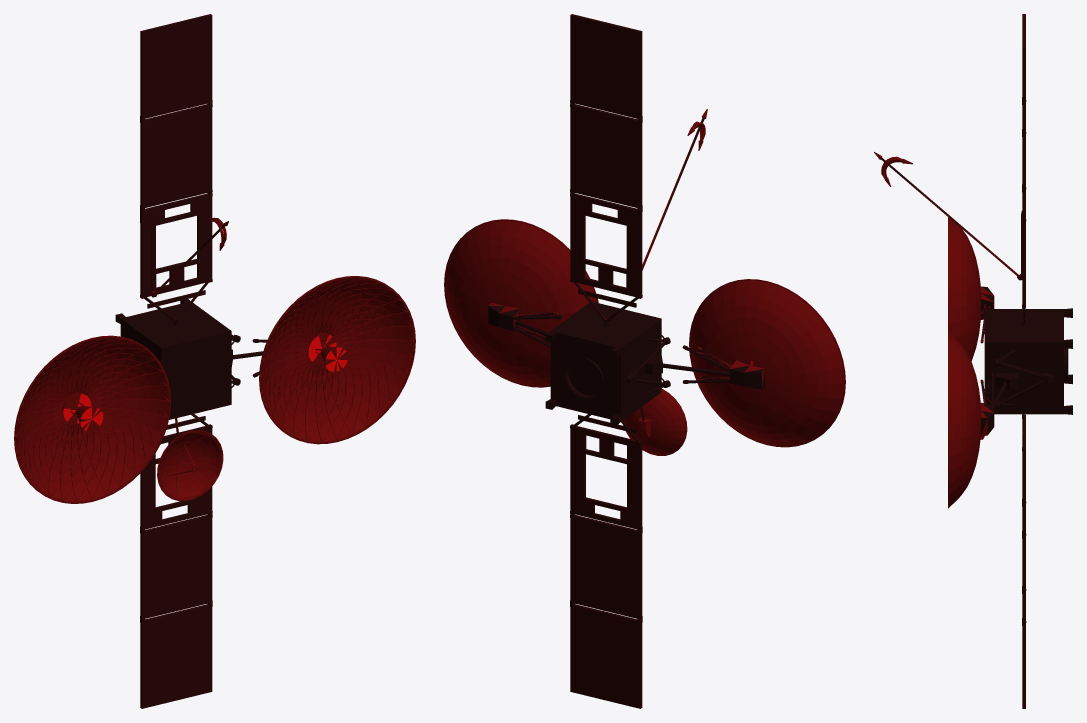
File: matlib_tdrs.obj
3 renders of one model, left to right at view 1: azimuth 30°, elevation 25°; view 2: azimuth 150°, elevation 25°; view 3: azimuth 270°, elevation 25°, orthographic. The views are drawn at different scales.
Visible parts, largest first — view 1: mesh1; view 2: mesh1; view 3: mesh1.
Boxes of the visible parts, x1=… form: mesh1: x1=14, y1=14, x2=415, y2=708; mesh1: x1=444, y1=14, x2=845, y2=708; mesh1: x1=874, y1=14, x2=1072, y2=708.
Bounding box in the file's own units: 10.69 × 17.22 × 4.69.
